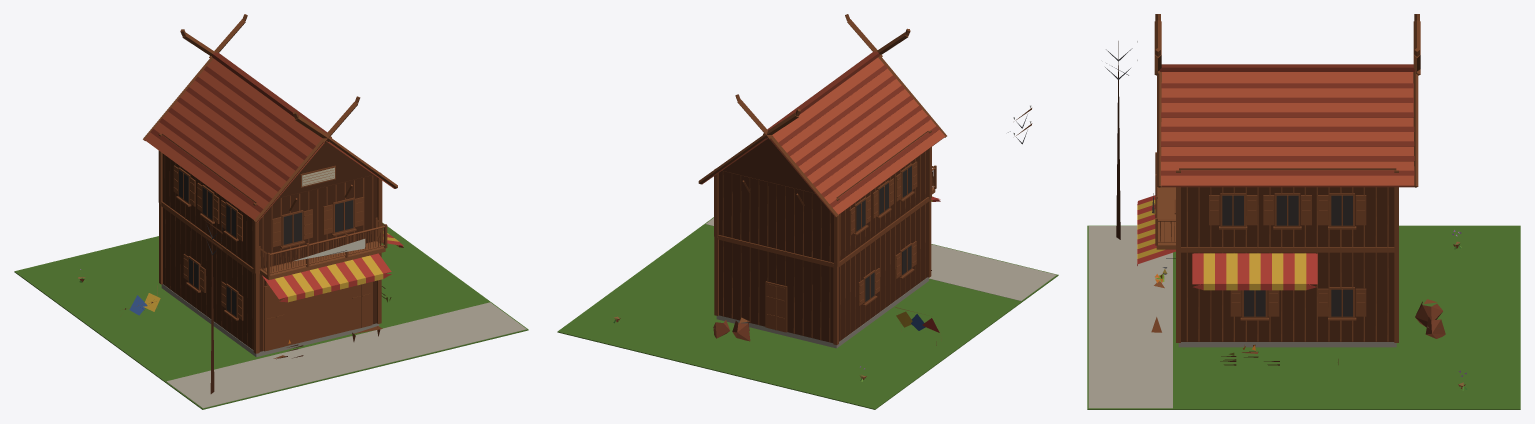
Rendered from shop_1.glb.
3 views of the same model, side by side, from view 1: azimuth 30°, elevation 25°; view 2: azimuth 150°, elevation 25°; view 3: azimuth 270°, elevation 25° (orthographic). The views are drawn at different scales.
Parts seen in each view (by area): view 1: body, windows; view 2: body, windows; view 3: body, windows.
Part boxes in pixels (left/top/right/bottom): body: left=14, top=14, right=528, bottom=409; windows: left=179, top=170, right=353, bottom=316; body: left=557, top=14, right=1058, bottom=409; windows: left=856, top=166, right=911, bottom=301; body: left=1087, top=14, right=1520, bottom=409; windows: left=1163, top=195, right=1352, bottom=316.
Bounding box in the file's own units: 15.9 × 11.66 × 15.9.
